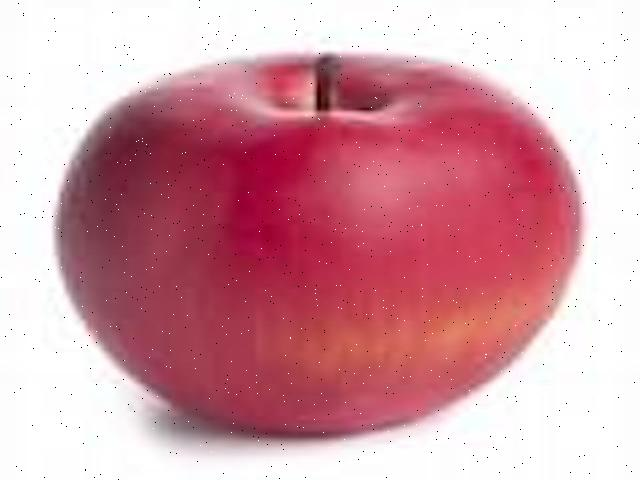apple: (46, 43, 591, 445)
